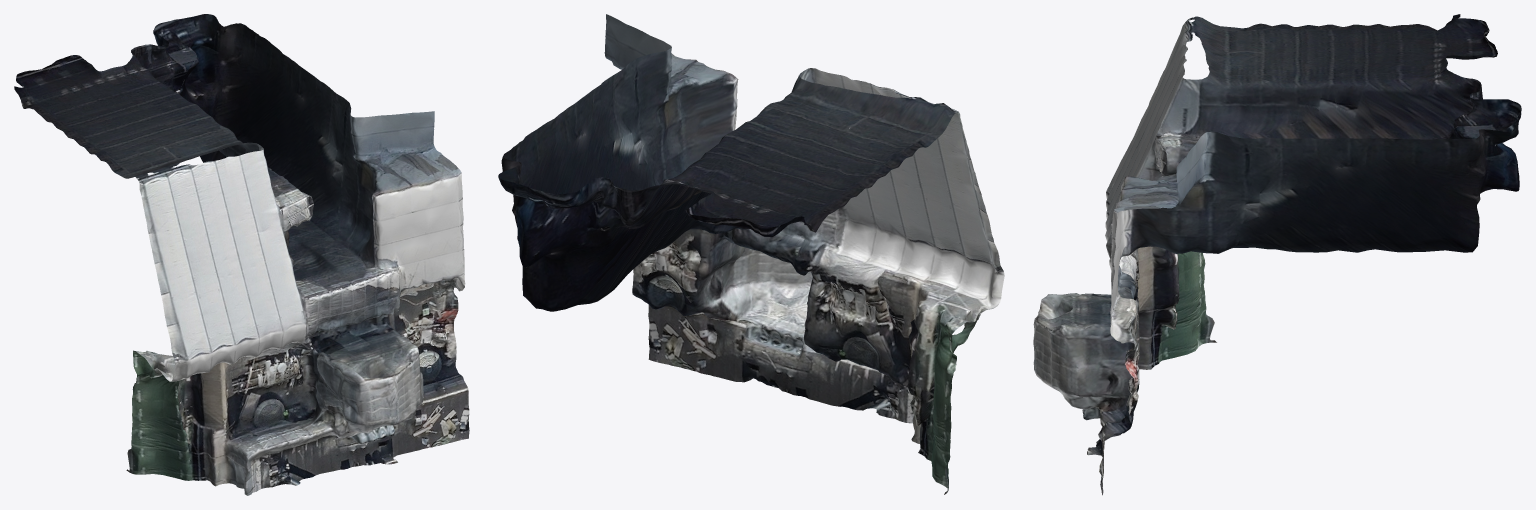
File: Tile_+029_+018_L21_0001000.fbx
The picture shows the model from 3 angles, left to right: view 1: azimuth 30°, elevation 25°; view 2: azimuth 150°, elevation 25°; view 3: azimuth 270°, elevation 25°; orthographic projection. The views are drawn at different scales.
Parts seen in each view (by area): view 1: DefaultName; view 2: DefaultName; view 3: DefaultName.
Part boxes in pixels (bbox=[...]): DefaultName: bbox=[14, 14, 469, 495]; DefaultName: bbox=[498, 14, 1004, 494]; DefaultName: bbox=[1033, 14, 1521, 495].
Bounding box in the file's own units: 31.38 × 31.31 × 42.21.
Materials: 1 (1 with a texture image).
